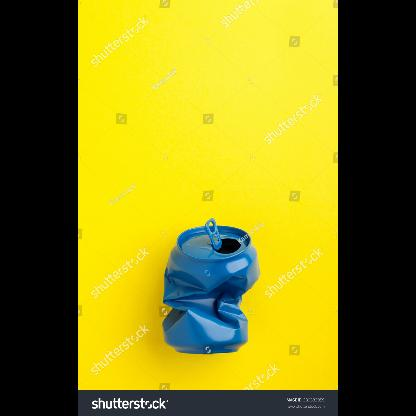Dent_Can: (165, 268, 215, 314), (196, 290, 242, 330), (195, 309, 245, 341), (211, 257, 255, 291), (163, 306, 189, 334)
Lid_Open: (201, 212, 245, 265)
Tin_Can: (164, 218, 262, 362)
